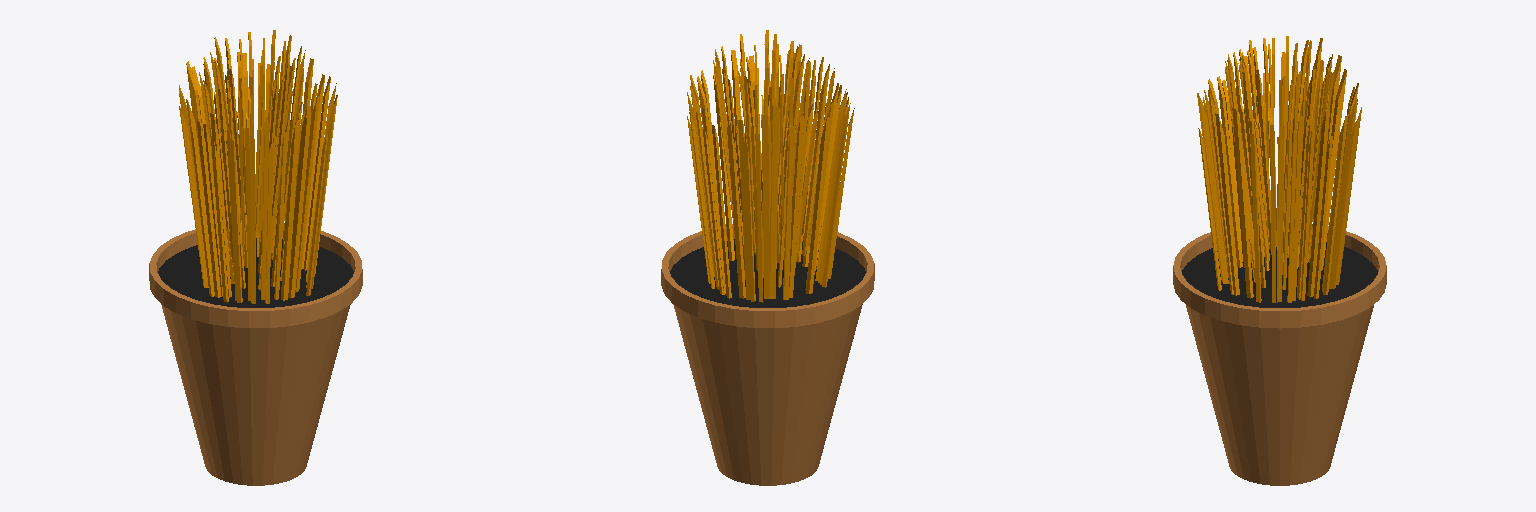
Rendered from plant.obj.
3 renders of one model, left to right at view 1: azimuth 30°, elevation 25°; view 2: azimuth 150°, elevation 25°; view 3: azimuth 270°, elevation 25°, orthographic.
Visible parts, largest first — view 1: Cylinder, plantleaf_Cube.001; view 2: Cylinder, plantleaf_Cube.001; view 3: Cylinder, plantleaf_Cube.001.
Boxes of the visible parts, x1,y1,x2,y2 form: Cylinder: [149, 229, 362, 485]; plantleaf_Cube.001: [179, 30, 337, 303]; Cylinder: [661, 224, 874, 485]; plantleaf_Cube.001: [687, 30, 854, 302]; Cylinder: [1173, 226, 1386, 485]; plantleaf_Cube.001: [1197, 36, 1361, 302].
Bounding box in the file's own units: 2.14 × 4.61 × 2.14.